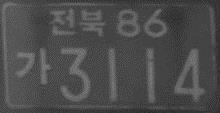1: (105, 46, 122, 104), (144, 46, 158, 103)
3: (58, 46, 91, 101)
4: (173, 47, 204, 102)
6: (143, 6, 168, 38)
8: (116, 8, 140, 38)
가: (16, 45, 52, 87)
전북_O: (46, 6, 106, 38)
